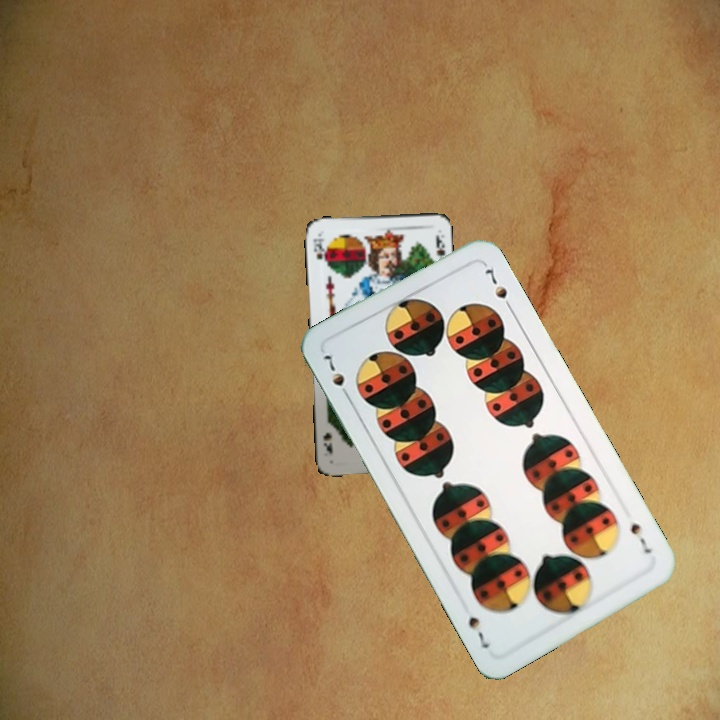S7: (319, 350, 353, 403), (626, 519, 655, 556)
SK: (309, 235, 328, 263)
